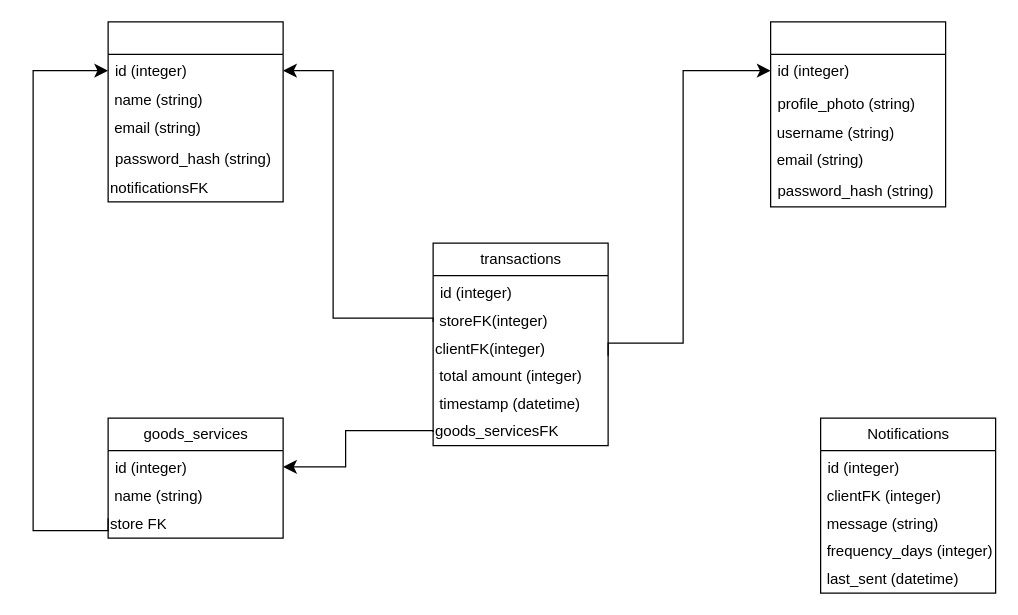
Image size: 1018x615. Some labels were removed from this diagram. The box of each missing label's shape, as (x1, y1, x2, y2) in pixels:
client: (769, 21, 946, 207)
store: (107, 21, 283, 202)
